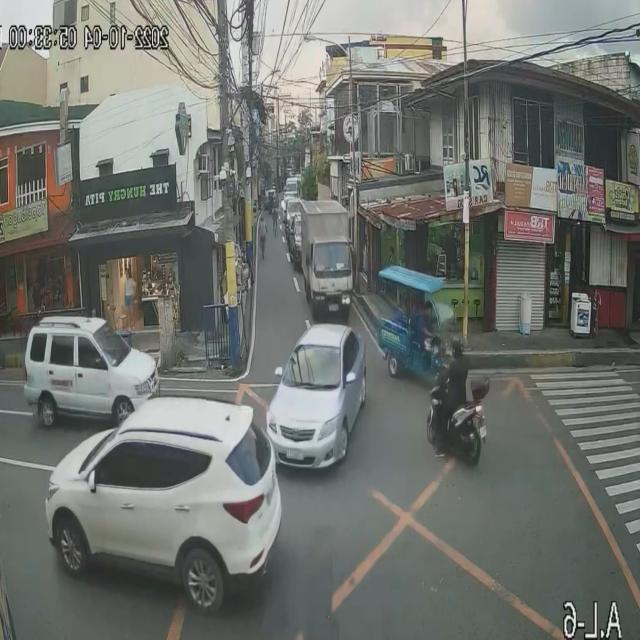full: (448, 335, 464, 358)
